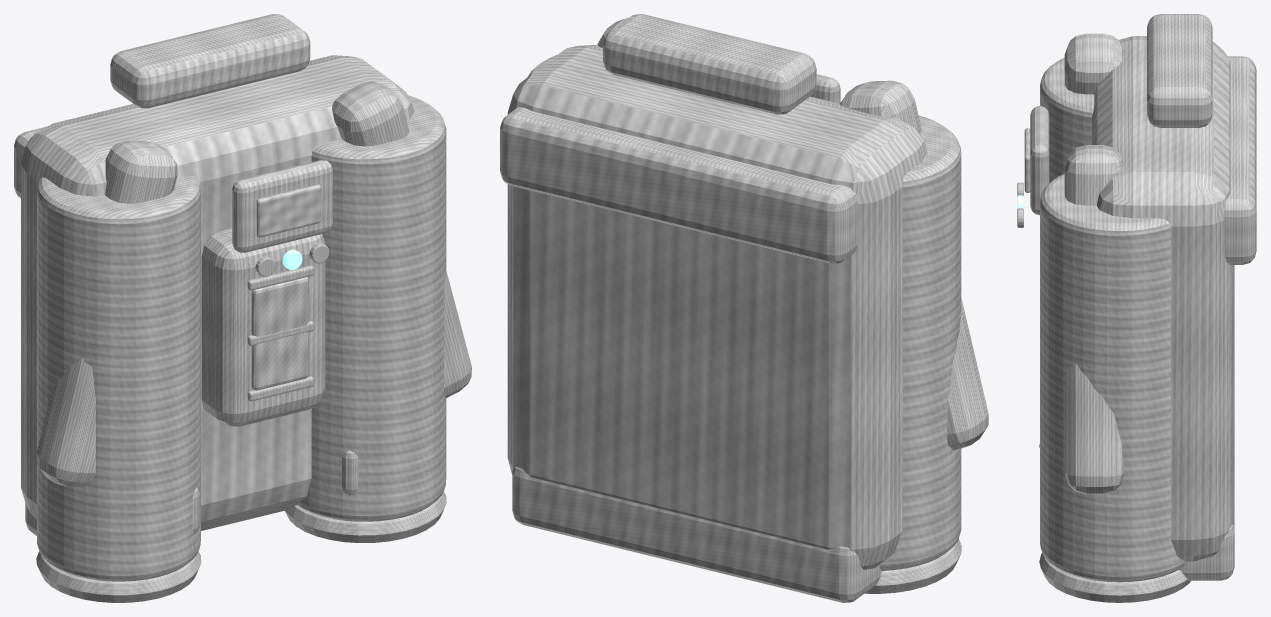
The model's file is jetpack_variant_b.glb.
3 renders of one model, left to right at view 1: azimuth 30°, elevation 25°; view 2: azimuth 150°, elevation 25°; view 3: azimuth 270°, elevation 25°, orthographic. The views are drawn at different scales.
Visible parts, largest first — view 1: Recessed turbine housing, Recessed turbine housing.001, Armored dorsal shell, Fuel cell shell.001, Top service handle, Shoulder strap.002, Shoulder strap.003, Fuel level window.001, Status panel bezel.001, Turbine protective ring, Turbine protective ring.001, Status display.001 (+4 smaller); view 2: Armored dorsal shell, Upper harness bridge.001, Recessed turbine housing, Waist stabilizer.001, Top service handle, Shoulder strap.002, Turbine protective ring; view 3: Recessed turbine housing.001, Armored dorsal shell, Shoulder strap.003, Top service handle, Upper harness bridge.001, Recessed turbine housing, Turbine protective ring.001, Shoulder strap.002, Status panel bezel.001, Waist stabilizer.001, Status display.001.
Part boxes in pixels (<box>): Recessed turbine housing: <box>37,176,200,581</box>; Recessed turbine housing.001: <box>297,95,446,521</box>; Armored dorsal shell: <box>21,55,414,528</box>; Fuel cell shell.001: <box>201,228,325,426</box>; Top service handle: <box>110,14,310,108</box>; Shoulder strap.002: <box>36,140,177,487</box>; Shoulder strap.003: <box>332,81,471,398</box>; Fuel level window.001: <box>251,277,308,390</box>; Status panel bezel.001: <box>232,160,332,252</box>; Turbine protective ring: <box>36,551,201,602</box>; Turbine protective ring.001: <box>285,491,446,542</box>; Status display.001: <box>256,184,321,237</box>; Armored dorsal shell: <box>507,44,927,569</box>; Upper harness bridge.001: <box>500,107,857,263</box>; Recessed turbine housing: <box>879,115,961,570</box>; Waist stabilizer.001: <box>512,466,881,602</box>; Top service handle: <box>603,14,816,114</box>; Shoulder strap.002: <box>840,80,988,449</box>; Turbine protective ring: <box>865,538,961,593</box>; Recessed turbine housing.001: <box>1040,173,1185,582</box>; Armored dorsal shell: <box>1092,36,1234,561</box>; Shoulder strap.003: <box>1064,145,1124,494</box>; Top service handle: <box>1147,14,1212,127</box>; Upper harness bridge.001: <box>1224,56,1256,264</box>; Recessed turbine housing: <box>1040,57,1094,182</box>; Turbine protective ring.001: <box>1039,553,1190,602</box>; Shoulder strap.002: <box>1064,33,1123,94</box>; Status panel bezel.001: <box>1030,106,1049,215</box>; Waist stabilizer.001: <box>1179,523,1234,580</box>; Status display.001: <box>1024,128,1030,192</box>.
Size of what is drawn, in the model's own units: 0.8574 by 0.9425 by 0.436.
Materials: 8 (8 with a texture image).
